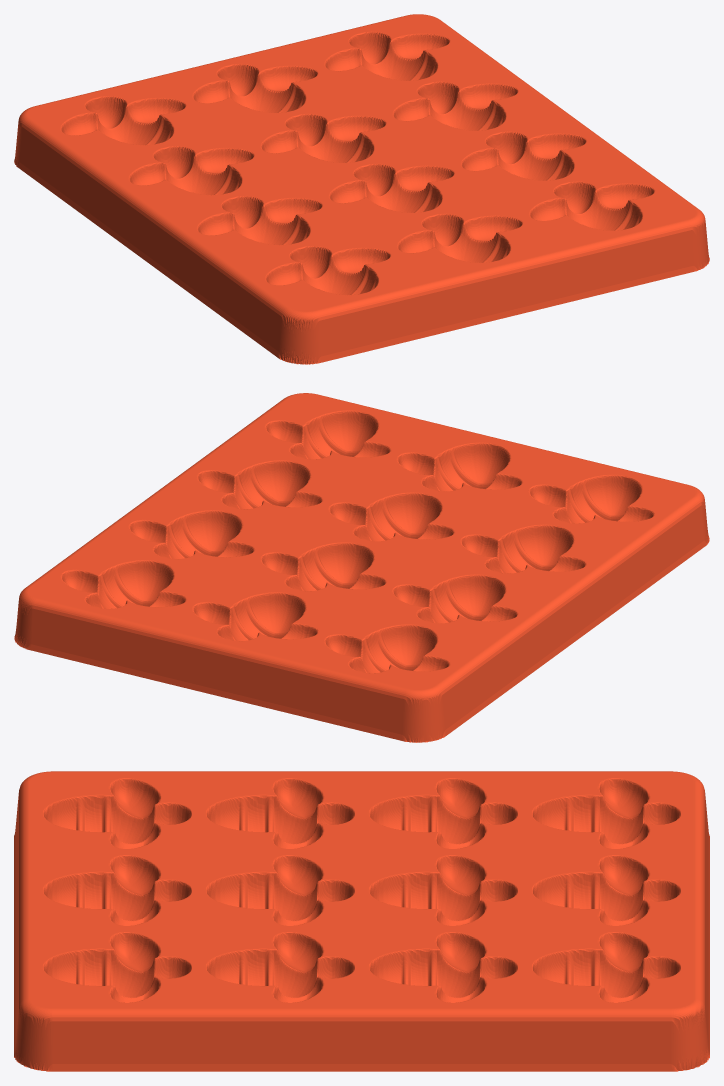
Rendered from mold.glb.
The picture shows the model from 3 angles, top to bottom: view 1: azimuth 30°, elevation 25°; view 2: azimuth 150°, elevation 25°; view 3: azimuth 270°, elevation 25°; orthographic projection. The views are drawn at different scales.
Parts seen in each view (by area): view 1: geometry_0; view 2: geometry_0; view 3: geometry_0.
Part boxes in pixels (x1,y1,x2,y2): geometry_0: [14, 14, 709, 364]; geometry_0: [14, 393, 709, 742]; geometry_0: [14, 771, 709, 1071].
Bounding box in the file's own units: 0.1374 × 0.0145 × 0.1621.
